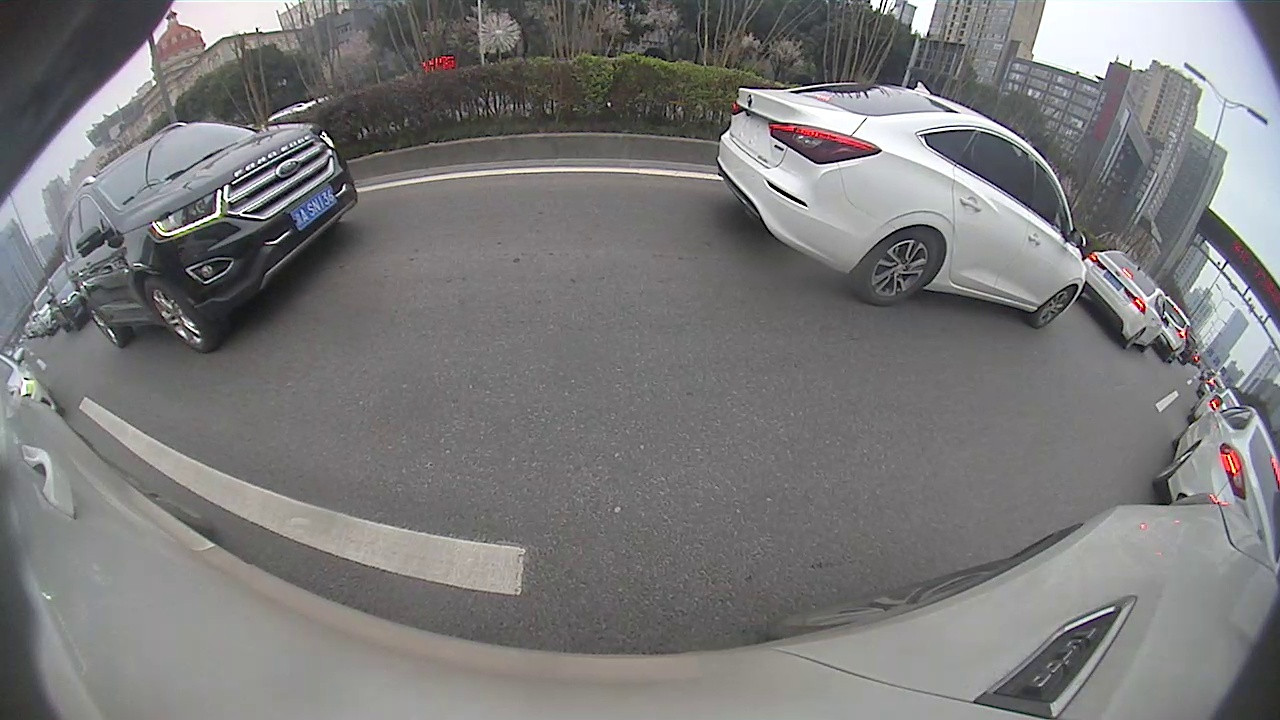car: (716, 80, 1088, 330), (59, 120, 361, 354), (1149, 392, 1278, 557), (1082, 249, 1171, 352)
front: (144, 282, 213, 353), (1030, 284, 1078, 331)
rear: (857, 231, 943, 306), (86, 303, 124, 347)
